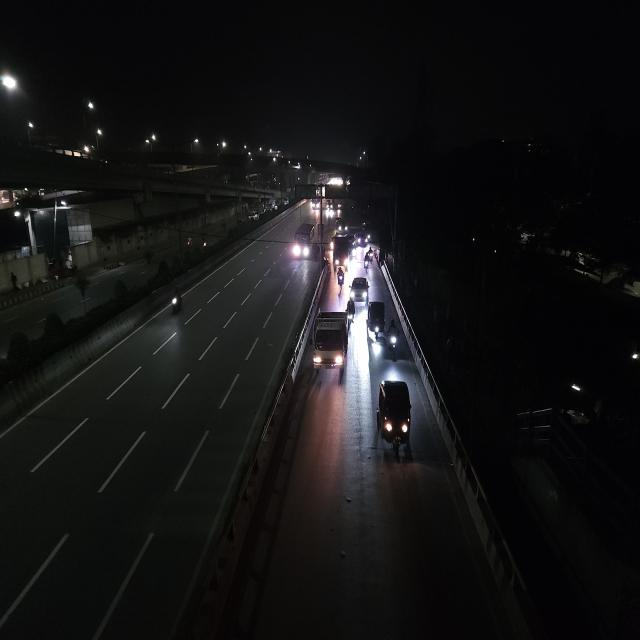bus: (292, 221, 316, 262)
car: (349, 273, 371, 304), (335, 219, 348, 238), (355, 232, 367, 246), (248, 210, 259, 222)
cng: (374, 374, 416, 461), (366, 302, 386, 344)
motorcycle: (385, 317, 401, 361), (168, 286, 185, 319), (336, 266, 346, 295), (200, 235, 210, 251), (362, 253, 370, 272), (368, 247, 374, 266), (329, 233, 335, 250), (323, 252, 329, 269)
pickup_van: (311, 306, 353, 376)
truck: (332, 237, 349, 267)
